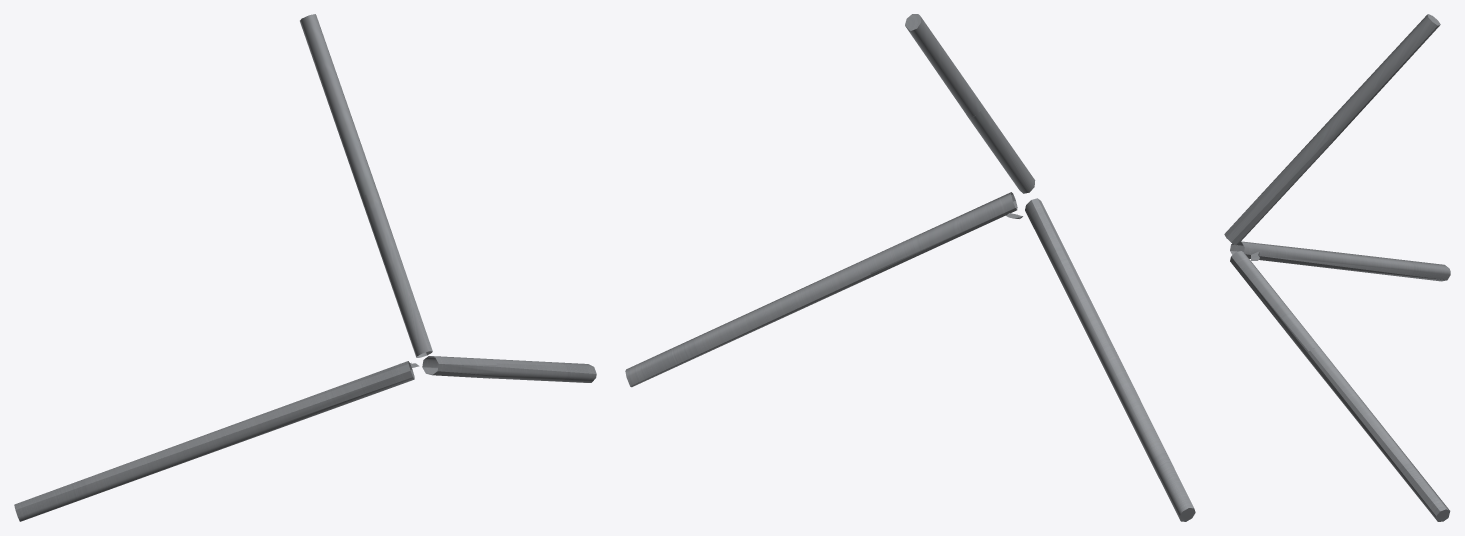
File: palka.fbx
3 renders of one model, left to right at view 1: azimuth 30°, elevation 25°; view 2: azimuth 150°, elevation 25°; view 3: azimuth 270°, elevation 25°, orthographic. The views are drawn at different scales.
Parts seen in each view (by area): view 1: Цилиндр.011; view 2: Цилиндр.011; view 3: Цилиндр.011.
Part boxes in pixels (x1,y1,x2,y2): Цилиндр.011: (14,14,596,521); Цилиндр.011: (625,14,1195,521); Цилиндр.011: (1224,14,1450,521).
Bounding box in the file's own units: 79.06 × 57.85 × 30.7.
